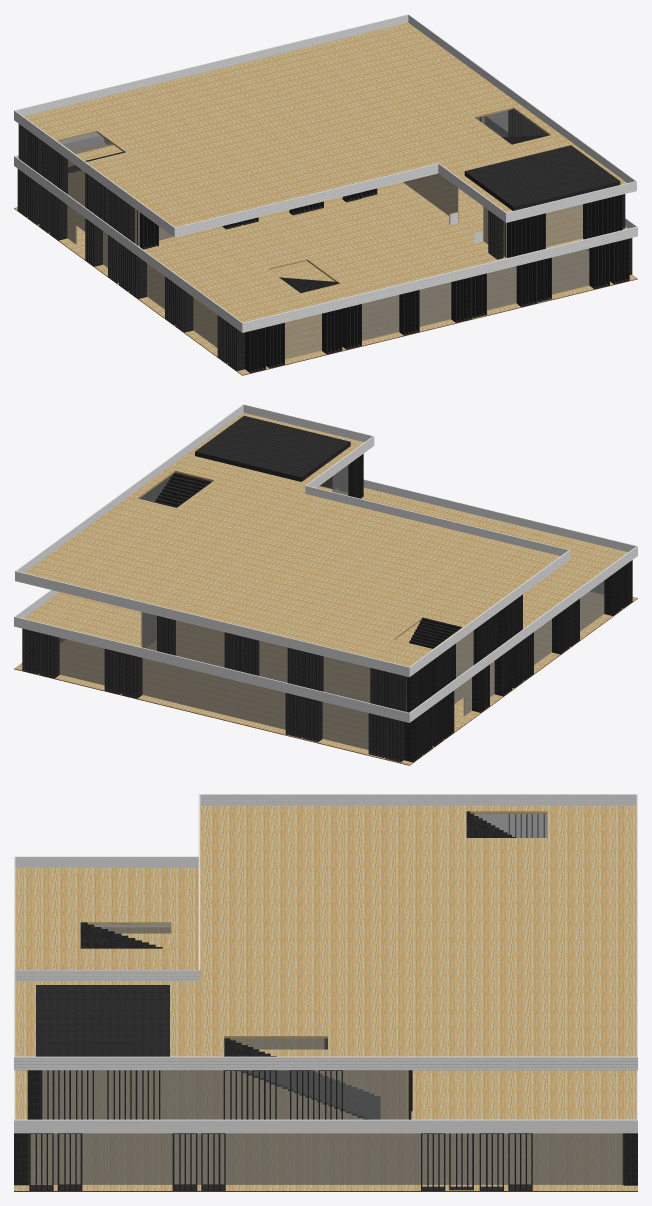
3 renders of one model, top to bottom at view 1: azimuth 30°, elevation 25°; view 2: azimuth 150°, elevation 25°; view 3: azimuth 270°, elevation 25°, orthographic. The views are drawn at different scales.
Visible parts, largest first — view 1: G-No_Name_087, G-No_Name_159, G-No_Name_147, G-No_Name_161, G-No_Name_168, G-No_Name_136, G-No_Name_112, G-No_Name_122, G-No_Name_153, G-No_Name_096, G-No_Name_100, G-No_Name_164 (+15 smaller); view 2: G-No_Name_087, G-No_Name_159, G-No_Name_117, G-No_Name_104, G-No_Name_092, G-No_Name_131, G-No_Name_125, G-No_Name_163, G-No_Name_166, G-No_Name_158, G-No_Name_127, G-No_Name_155 (+20 smaller); view 3: G-No_Name_087, G-No_Name_159, G-No_Name_117, G-No_Name_088, G-No_Name_130, G-No_Name_098, G-No_Name_132, G-No_Name_127, G-No_Name_153, G-No_Name_104, G-No_Name_113, G-No_Name_140 (+5 smaller).
Boxes of the visible parts, x1,y1,x2,y2 form: G-No_Name_087: [14, 14, 637, 359]; G-No_Name_159: [14, 206, 637, 375]; G-No_Name_147: [399, 290, 419, 335]; G-No_Name_161: [322, 309, 342, 354]; G-No_Name_168: [451, 277, 471, 322]; G-No_Name_136: [516, 261, 536, 306]; G-No_Name_112: [245, 327, 265, 372]; G-No_Name_122: [589, 243, 609, 289]; G-No_Name_153: [610, 238, 629, 284]; G-No_Name_096: [342, 304, 361, 349]; G-No_Name_100: [266, 322, 284, 368]; G-No_Name_164: [49, 192, 67, 240]; G-No_Name_087: [14, 404, 637, 749]; G-No_Name_159: [14, 592, 637, 765]; G-No_Name_117: [154, 472, 212, 507]; G-No_Name_104: [409, 617, 461, 648]; G-No_Name_092: [39, 632, 59, 678]; G-No_Name_131: [122, 653, 142, 698]; G-No_Name_125: [302, 697, 322, 742]; G-No_Name_163: [385, 717, 404, 762]; G-No_Name_166: [404, 714, 422, 762]; G-No_Name_158: [104, 649, 121, 694]; G-No_Name_127: [22, 628, 39, 674]; G-No_Name_155: [494, 648, 512, 696]; G-No_Name_087: [14, 794, 637, 1185]; G-No_Name_159: [14, 927, 637, 1191]; G-No_Name_117: [224, 1038, 380, 1119]; G-No_Name_088: [80, 922, 162, 948]; G-No_Name_130: [57, 1133, 82, 1190]; G-No_Name_098: [172, 1133, 197, 1190]; G-No_Name_132: [201, 1133, 225, 1190]; G-No_Name_127: [624, 1133, 637, 1185]; G-No_Name_153: [14, 1133, 27, 1185]; G-No_Name_104: [466, 811, 515, 837]; G-No_Name_113: [508, 1133, 532, 1190]; G-No_Name_140: [27, 1070, 40, 1119].
Size of what is drawn, in the model's own units: 64 by 15.18 by 64.
10 materials, 7 textured.
